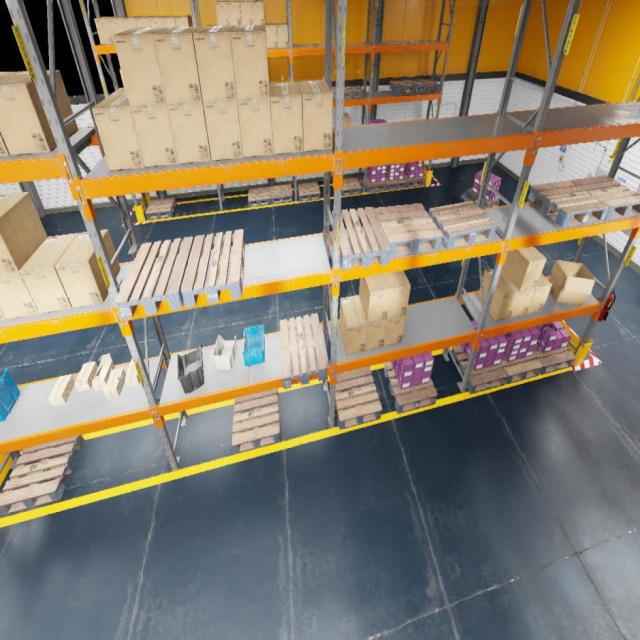box: (0, 70, 78, 155), (54, 229, 120, 308), (19, 233, 78, 313), (112, 27, 168, 107), (92, 91, 145, 171), (0, 192, 47, 274), (153, 27, 202, 104), (193, 25, 237, 102), (130, 104, 178, 168), (230, 26, 270, 100), (167, 102, 212, 164), (298, 80, 333, 151), (203, 99, 243, 161), (270, 82, 303, 154), (238, 98, 274, 158), (478, 269, 519, 321), (549, 260, 595, 305), (502, 246, 546, 291), (0, 271, 39, 318), (0, 71, 20, 156), (501, 269, 536, 317), (340, 296, 368, 356), (360, 296, 388, 351), (359, 274, 391, 322), (384, 270, 410, 319), (527, 274, 552, 314), (92, 353, 115, 391), (48, 374, 75, 406), (74, 361, 98, 391), (103, 368, 126, 399), (384, 315, 406, 346), (94, 17, 114, 45), (125, 357, 143, 386), (108, 17, 127, 44), (215, 1, 230, 25), (227, 1, 241, 25), (276, 23, 289, 48), (265, 23, 278, 48), (252, 1, 265, 24), (240, 1, 253, 24), (122, 16, 141, 31), (136, 16, 153, 28), (175, 16, 193, 26), (162, 16, 178, 27), (148, 16, 165, 26), (120, 70, 126, 90), (344, 113, 351, 126), (0, 308, 6, 320), (113, 88, 125, 92), (332, 144, 333, 150)
pallets: (0, 434, 84, 516), (115, 237, 193, 319), (181, 229, 245, 308), (527, 181, 609, 228), (374, 204, 442, 258), (332, 207, 390, 270), (280, 313, 326, 389), (428, 201, 497, 249), (232, 388, 281, 454), (570, 175, 640, 220), (335, 366, 382, 430), (451, 344, 508, 394), (384, 362, 438, 413), (501, 353, 543, 384), (534, 344, 576, 374), (145, 197, 176, 220), (465, 188, 500, 208), (248, 187, 271, 207), (389, 80, 419, 95), (270, 184, 293, 203), (298, 182, 320, 201), (363, 175, 387, 192), (411, 79, 440, 93), (341, 177, 362, 196), (403, 172, 426, 187), (386, 176, 406, 191), (345, 86, 364, 100), (332, 86, 336, 95)
